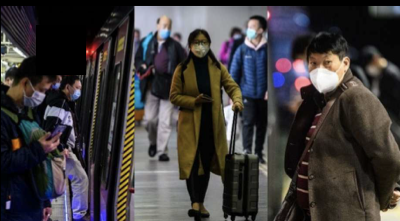with_mask: (306, 53, 342, 93), (23, 84, 50, 107), (190, 34, 209, 56), (158, 20, 171, 36), (70, 82, 82, 99), (246, 22, 256, 38), (51, 77, 62, 89)
